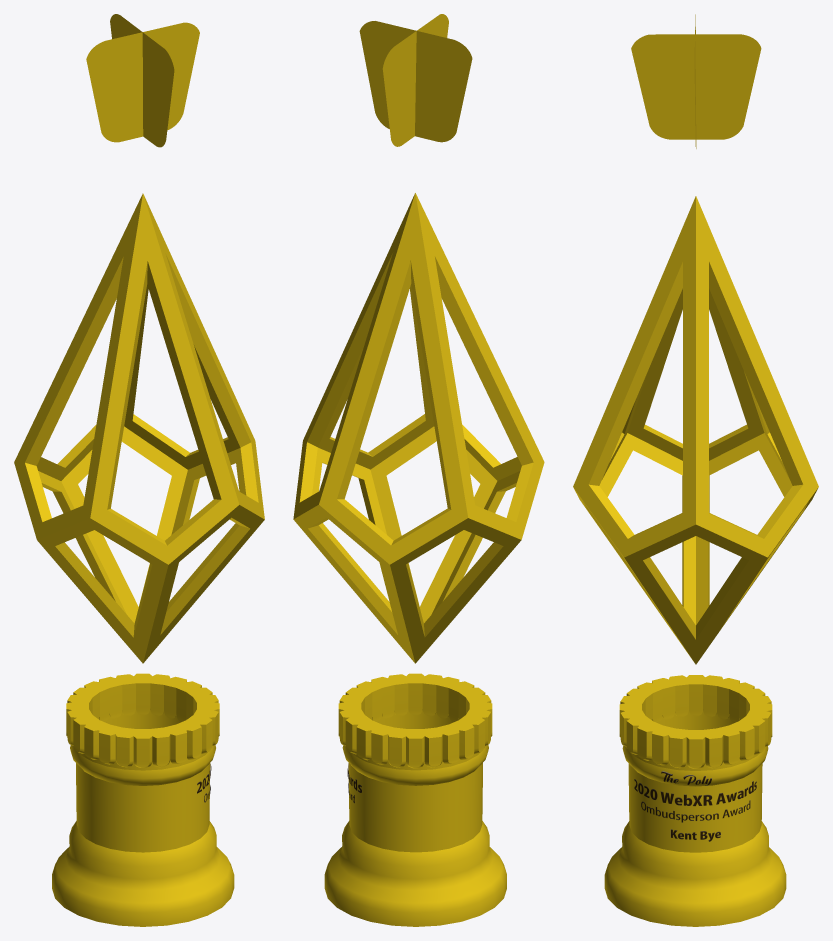
File: 16ae2b7e-6711-4841-bd19-ebdcce8d95c6_Ombudsperson.glb
3 views of the same model, side by side, from view 1: azimuth 30°, elevation 25°; view 2: azimuth 150°, elevation 25°; view 3: azimuth 270°, elevation 25° (orthographic).
Parts seen in each view (by area): view 1: Diamond, Base, Crown; view 2: Diamond, Base, Crown; view 3: Diamond, Base, Crown, Engravings.
Part boxes in pixels (x1=…): Diamond: x1=14, y1=193, x2=264, y2=663; Base: x1=52, y1=673, x2=234, y2=926; Crown: x1=86, y1=14, x2=199, y2=147; Diamond: x1=293, y1=193, x2=544, y2=663; Base: x1=324, y1=673, x2=506, y2=926; Crown: x1=359, y1=14, x2=472, y2=146; Diamond: x1=573, y1=196, x2=818, y2=664; Base: x1=604, y1=675, x2=786, y2=926; Crown: x1=631, y1=14, x2=761, y2=148; Engravings: x1=634, y1=771, x2=756, y2=841.
Size of the model in its own units: 0.6616 by 2.48 by 0.6471.
3 materials, 2 textured.
